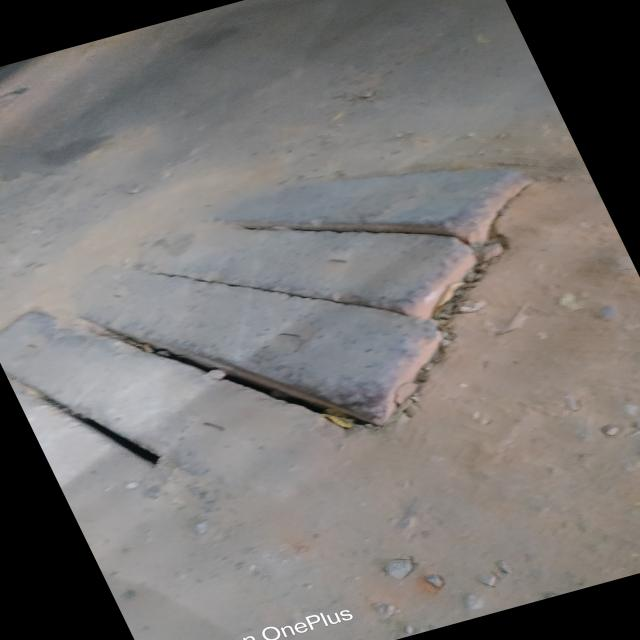potholes: (4, 160, 542, 466)
